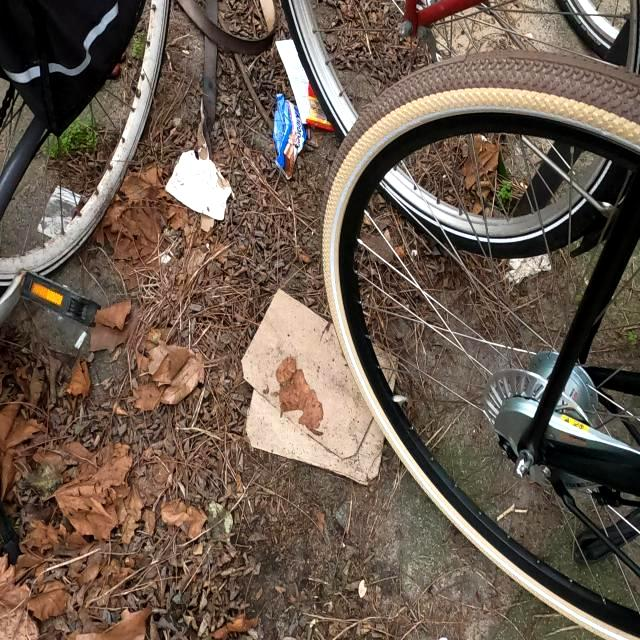Paper: (240, 286, 398, 486), (164, 149, 232, 221), (272, 91, 306, 180), (276, 40, 308, 124), (503, 252, 552, 284)
Plastic: (36, 184, 82, 240), (304, 80, 334, 134)
